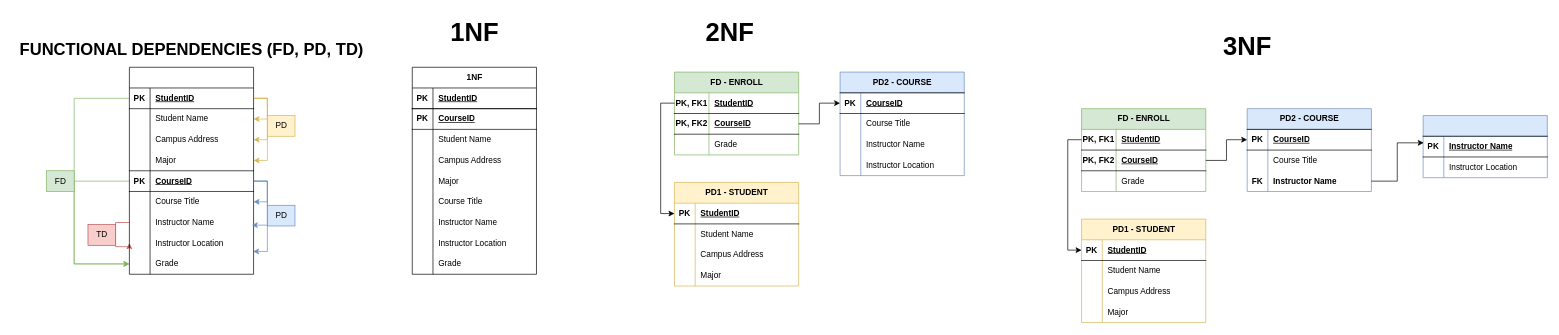
Some shapes in this 1559 by 335 pixel diagram are drawn without their labels. The box of each missing label's shape, as (x1, y1, x2, y2) in pixels:
GRADE REPORT: (129, 67, 254, 274)
TD - INSTRUCTOR: (1422, 115, 1547, 178)
